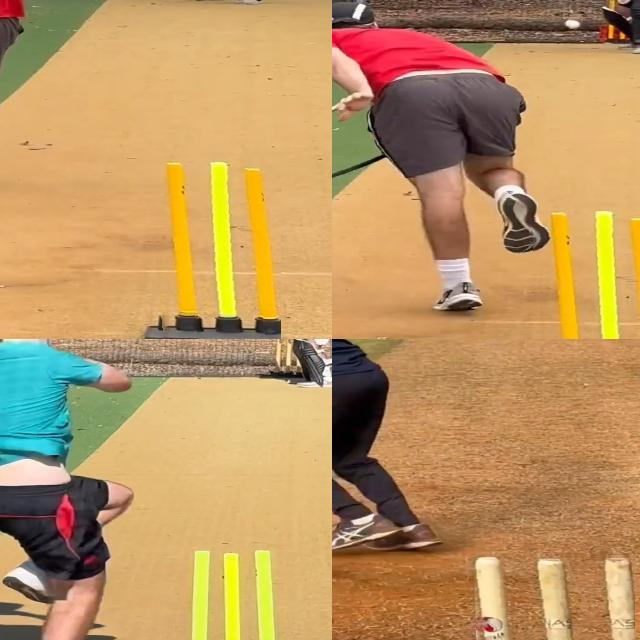Cricket ball: (564, 17, 583, 29)
Stumps: (145, 159, 281, 339), (528, 211, 640, 339), (469, 554, 635, 640)
